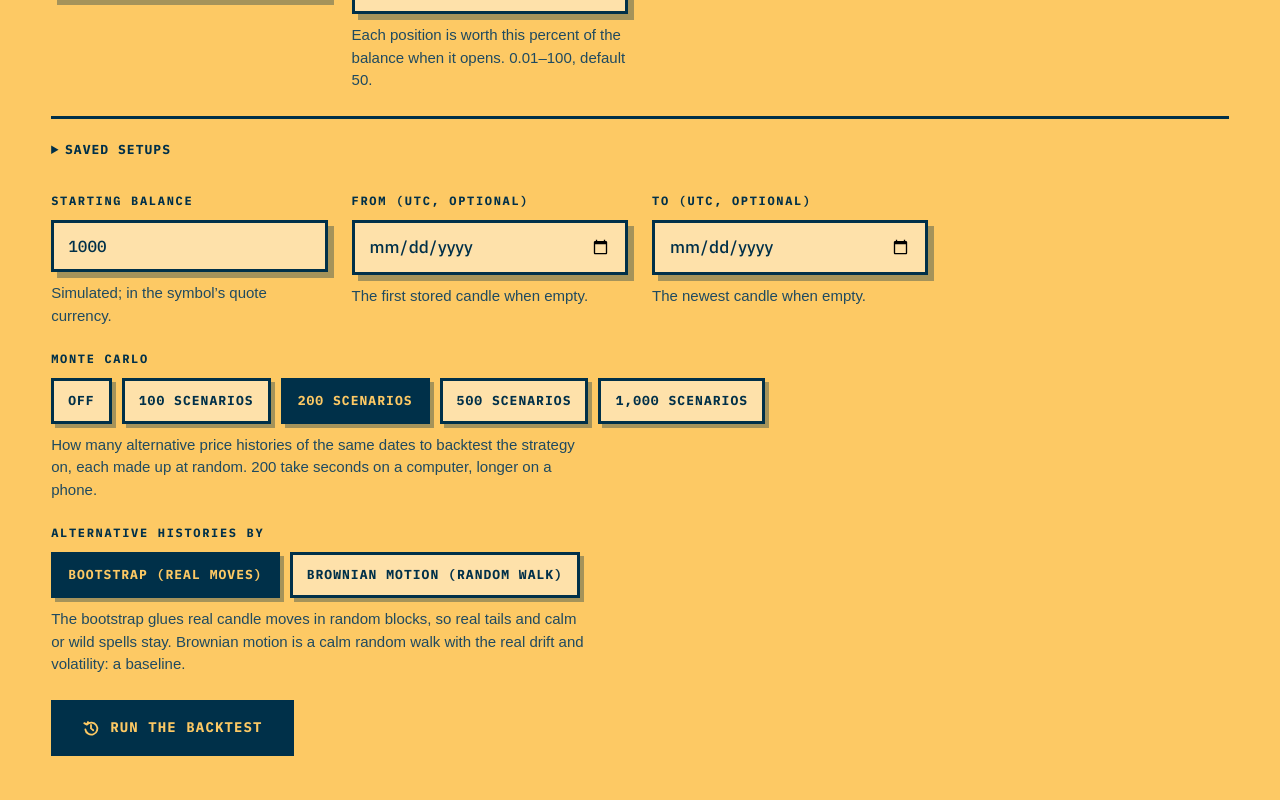
Test case: Backtest › runs no Monte Carlo when it is off
(page scrolled)
Click the radio button labelled "Off" at (81, 401), box [51,378,112,424]
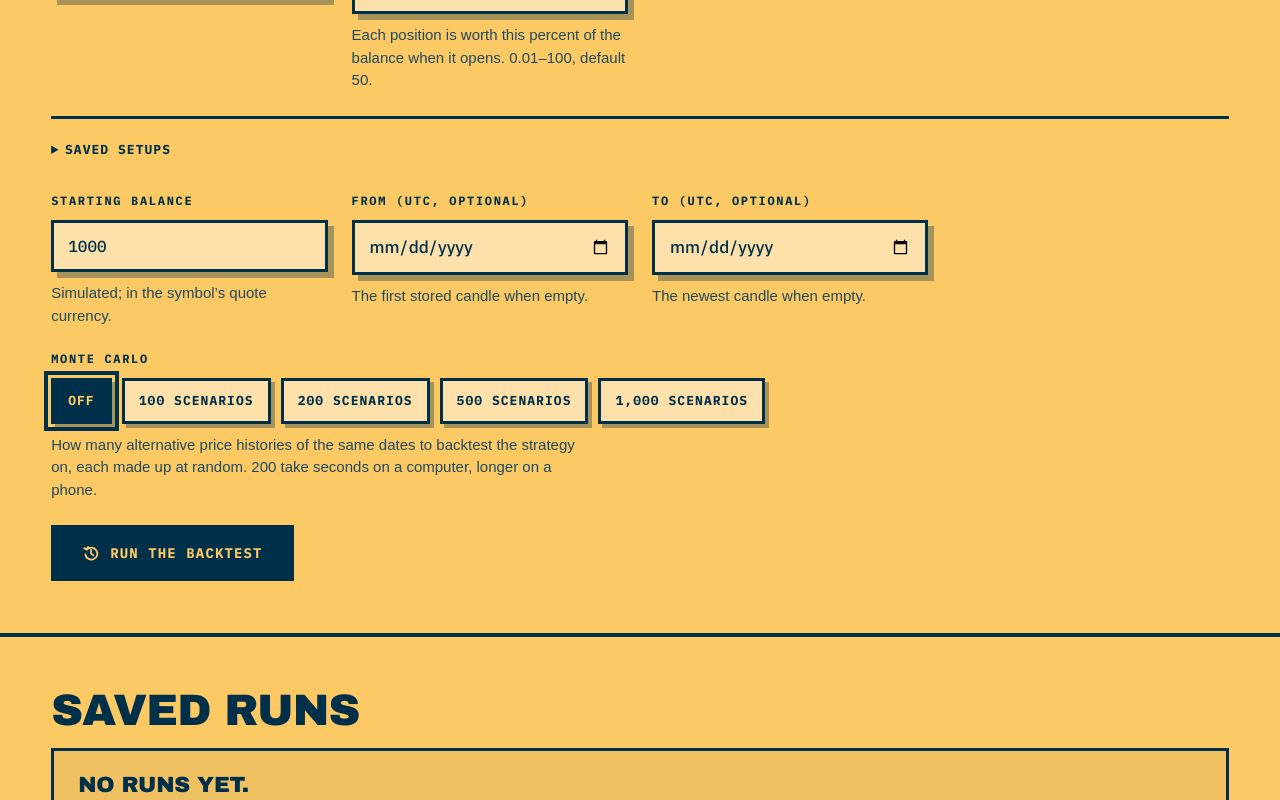
Click the button "Run the backtest" at (172, 553), box [51,525,294,581]
(page scrolled)
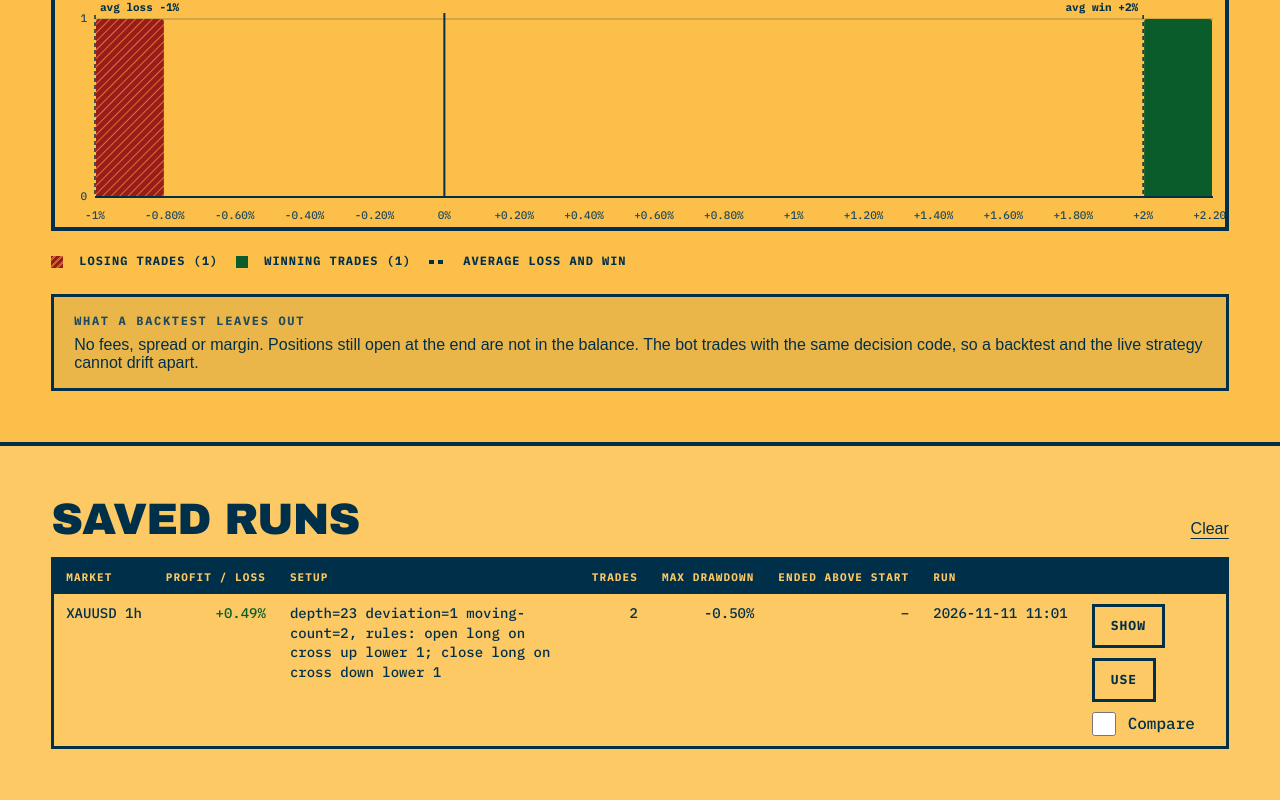
Expected: the heading "Monte Carlo" is not shown
Expected: the table named "Saved backtests" is shown, [54,560,1226,746]
